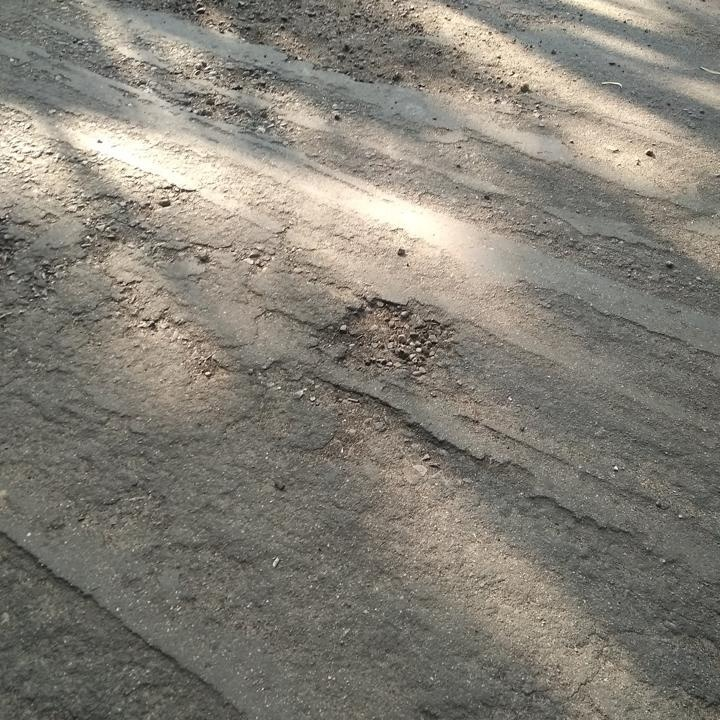pothole: (314, 292, 457, 373)
